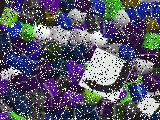Right: (78, 47, 134, 103)
